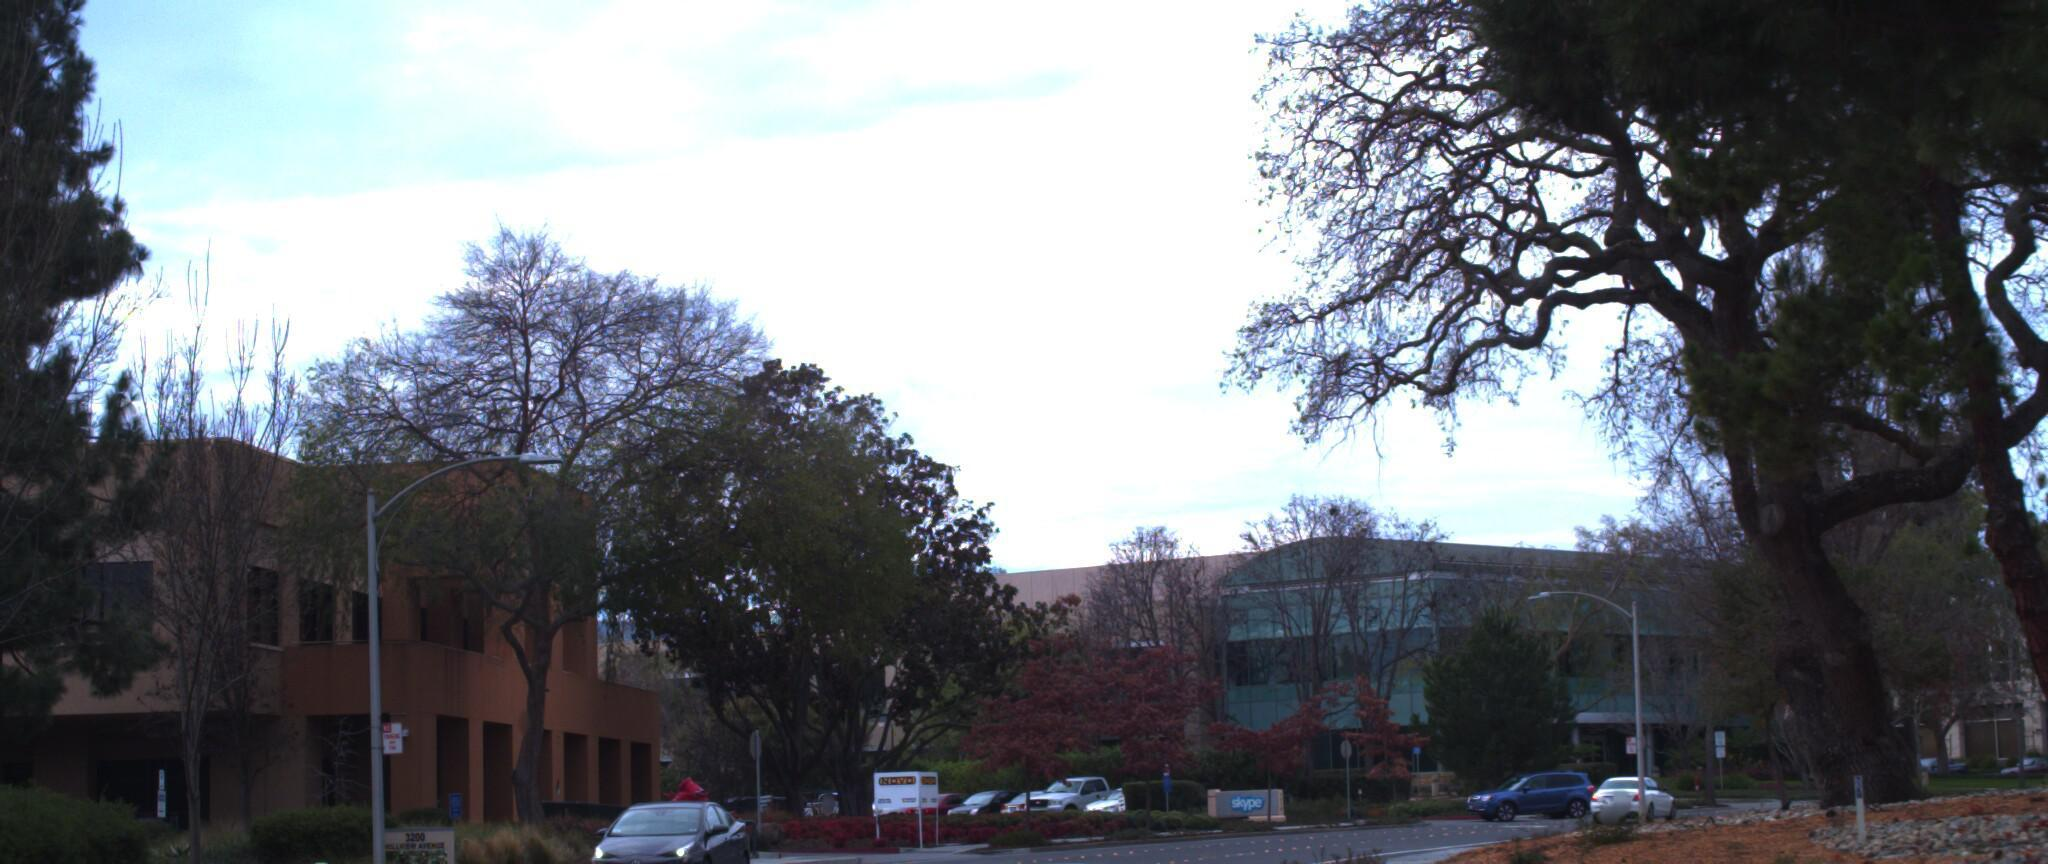car: (579, 790, 759, 864)
